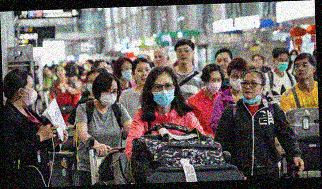mask_weared_incorrect: (241, 77, 263, 100)
with_mask: (151, 81, 176, 109), (99, 87, 119, 106), (229, 70, 246, 92), (23, 82, 38, 106), (207, 76, 223, 95), (275, 57, 291, 73), (86, 77, 99, 96), (121, 64, 135, 81), (290, 53, 300, 63)
without_mask: (294, 61, 314, 80), (134, 66, 152, 86), (177, 46, 193, 65), (216, 56, 232, 73), (152, 52, 168, 68), (254, 57, 265, 69), (55, 68, 66, 79)
